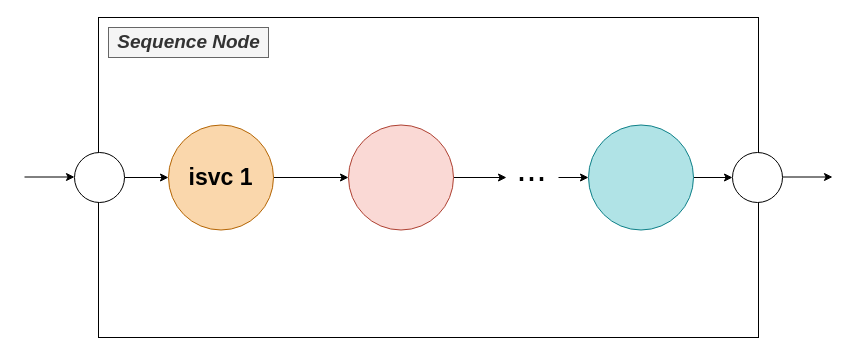
Some shapes in this 858 by 355 pixel diagram are drawn without their labels. The shapes that lost their labels are listed below. From the top down, each one's centre as x and y in pixels, then its label:
the point at 401,177: isvc 2
the point at 641,177: isvc n
